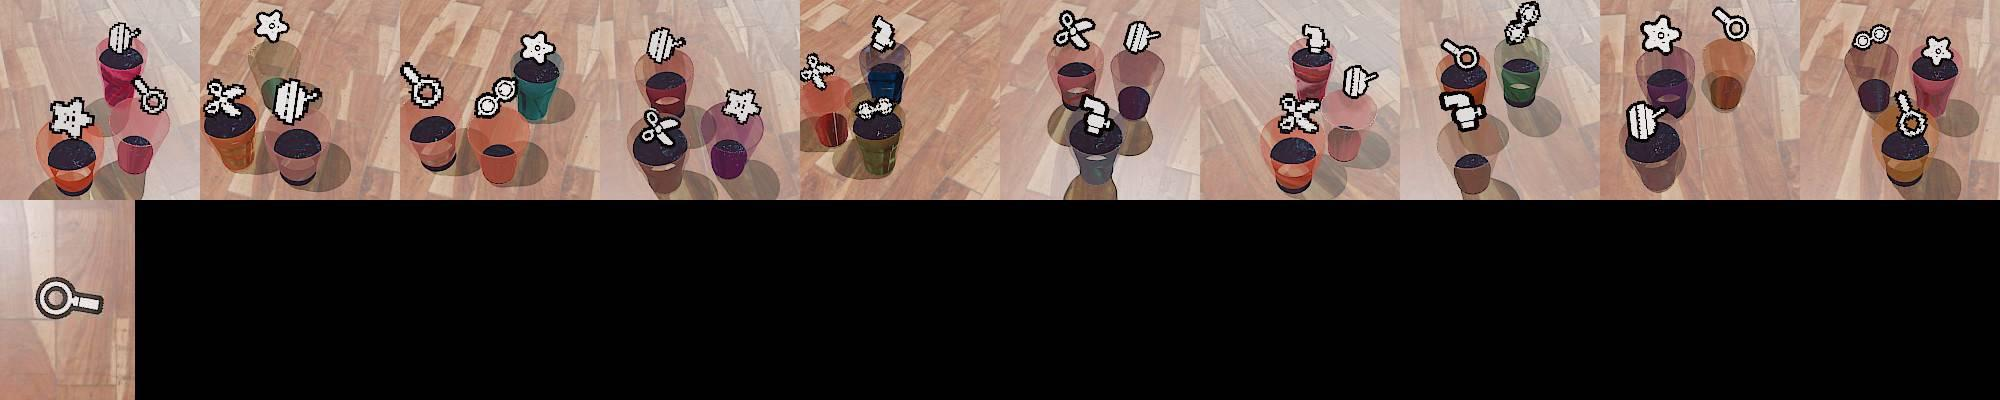icon: (34, 273, 108, 317), (271, 77, 323, 125), (400, 61, 446, 113), (471, 75, 520, 121), (48, 95, 97, 140), (202, 77, 249, 121), (1438, 89, 1486, 131), (1276, 91, 1322, 134), (1893, 89, 1931, 139), (1053, 8, 1096, 52), (640, 105, 682, 147), (1639, 14, 1681, 55), (131, 75, 171, 118), (1503, 1, 1542, 45), (1626, 98, 1663, 142), (645, 25, 686, 64), (1077, 93, 1114, 136), (720, 87, 761, 124), (517, 30, 558, 66), (1123, 18, 1162, 55), (799, 51, 836, 90), (1440, 37, 1480, 71), (1712, 6, 1749, 42), (253, 9, 290, 44), (1342, 64, 1378, 99), (107, 20, 139, 56), (855, 96, 896, 122), (869, 15, 897, 53), (1920, 36, 1953, 68), (1299, 23, 1330, 57), (1853, 23, 1891, 50)
